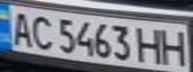3: (109, 23, 136, 62)
4: (72, 19, 96, 57)
5: (51, 16, 78, 54)
6: (90, 20, 115, 60)
A: (6, 9, 36, 47)
C: (27, 12, 57, 51)
H: (157, 27, 190, 66), (136, 25, 166, 65)
